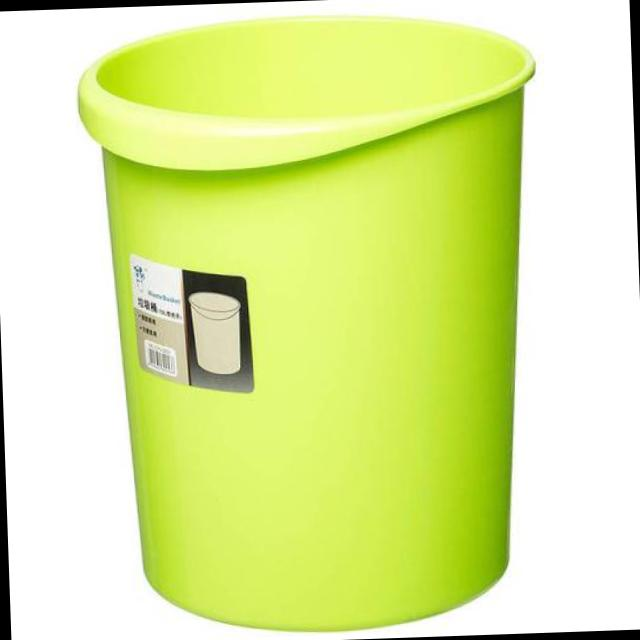dustbin: (72, 3, 559, 640)
